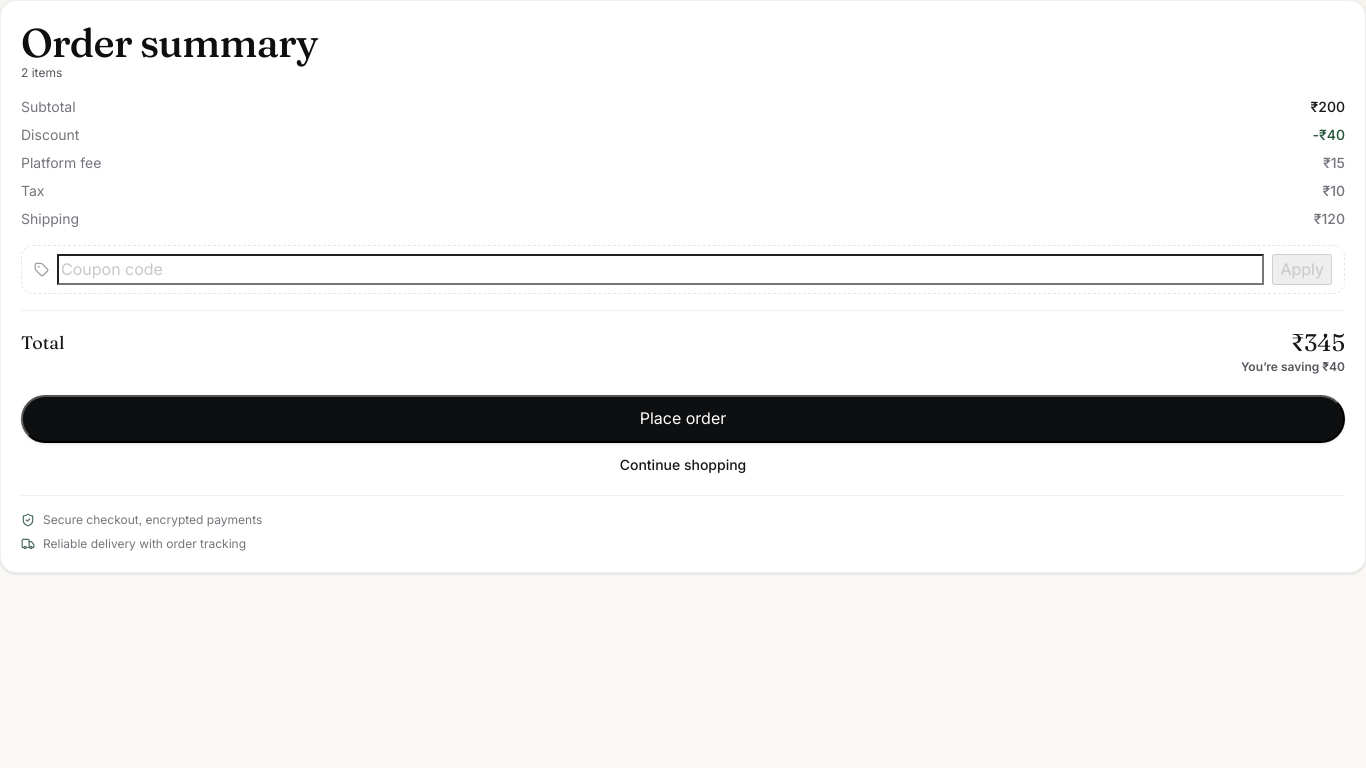
Scenario: OrderSummaryCard › shows an inline error when applying a coupon fails
Type "OLD" into the field with placeholder "Coupon code" at (661,269), box x1=57 y1=254 x2=1264 y2=285
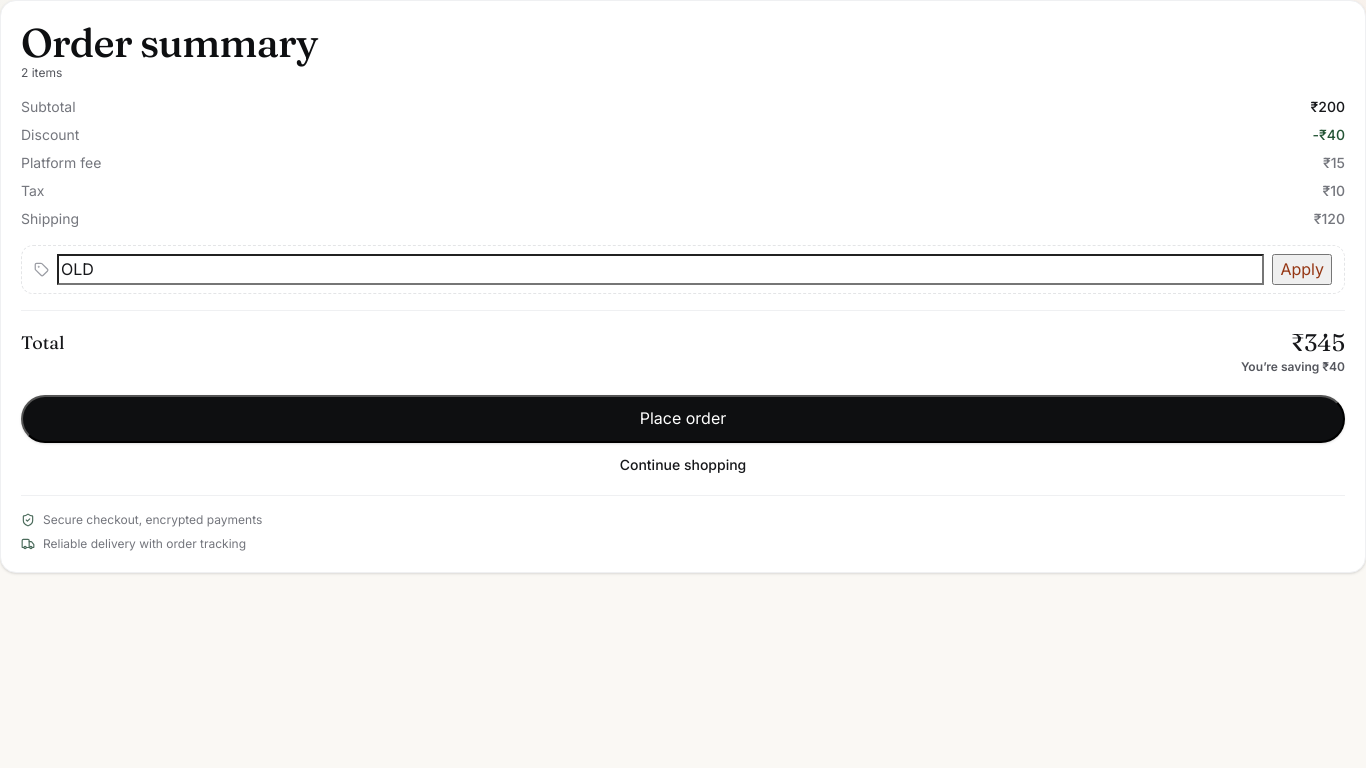
Click the button "Apply" at (1302,269), box x1=1272 y1=254 x2=1332 y2=285
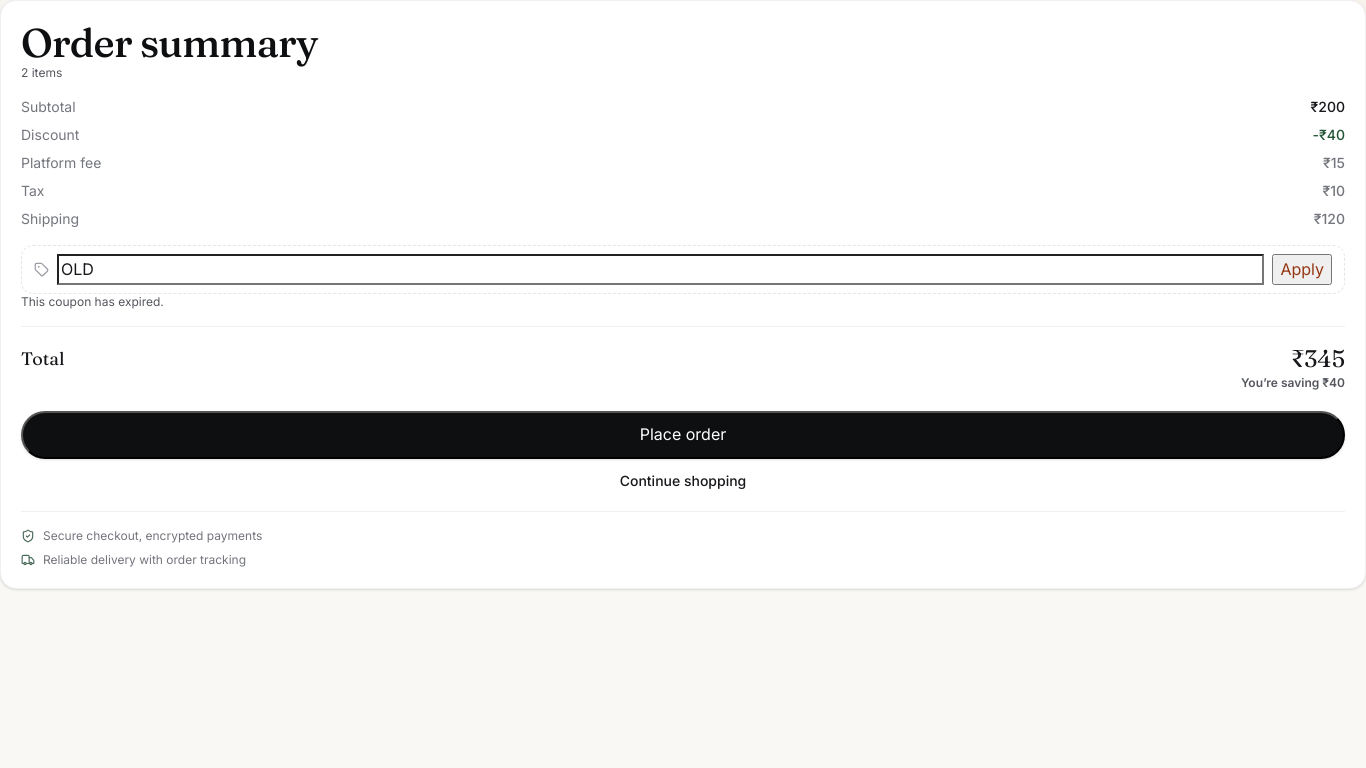
expect the text "This coupon has expired." is shown: met, box x1=21 y1=294 x2=164 y2=309
